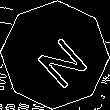N_NW: (23, 23, 87, 87)
